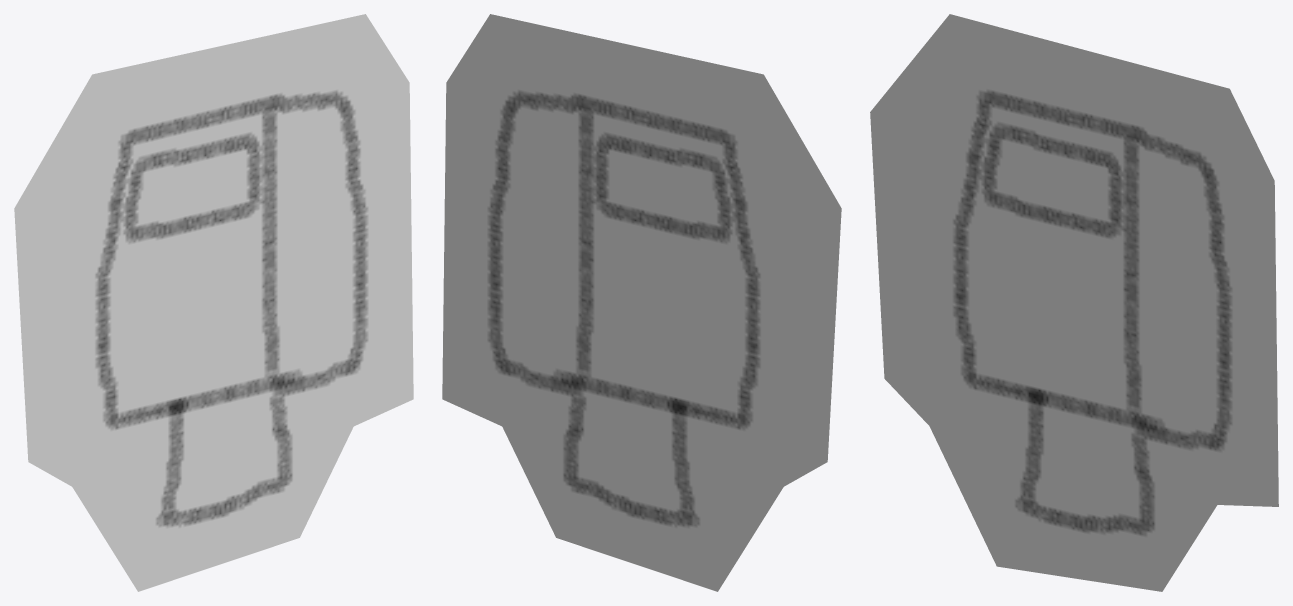
Rendered from Posten.fbx.
3 views of the same model, side by side, from view 1: azimuth 30°, elevation 25°; view 2: azimuth 150°, elevation 25°; view 3: azimuth 330°, elevation 25° (orthographic). The views are drawn at different scales.
Visible parts, largest first — view 1: Plane.022; view 2: Plane.022; view 3: Plane.022.
Boxes of the visible parts, box(x1,y1,x2,y2) form: Plane.022: box(14, 14, 413, 591); Plane.022: box(442, 14, 841, 591); Plane.022: box(870, 14, 1278, 591).
Size of the model in its own units: 28.79 by 36.42 by 5.93e-06.
Materials: 1 (1 with a texture image).
